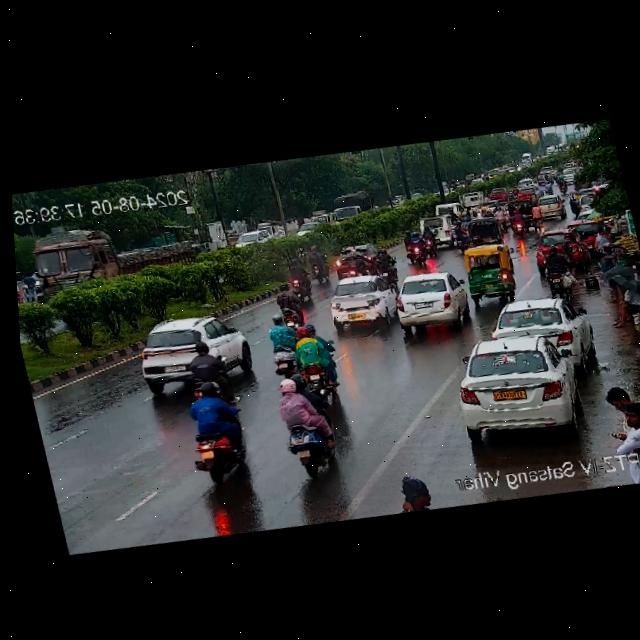car: (441, 319, 603, 450), (118, 304, 255, 401), (482, 288, 596, 372), (379, 263, 475, 338), (320, 269, 402, 333), (454, 239, 521, 305), (527, 225, 584, 279), (467, 212, 509, 249), (429, 212, 458, 247), (536, 192, 569, 221), (529, 200, 546, 230), (511, 185, 538, 203), (518, 199, 534, 229), (483, 184, 509, 201), (514, 175, 540, 191), (533, 168, 553, 185), (562, 166, 579, 186)
motorcycle: (272, 364, 342, 475), (178, 374, 253, 472), (284, 318, 345, 403), (176, 338, 238, 399), (260, 310, 305, 377), (266, 278, 307, 322), (331, 245, 374, 282), (395, 226, 434, 265), (302, 242, 331, 283), (458, 200, 506, 222), (451, 218, 470, 250), (430, 196, 460, 213), (509, 208, 527, 236), (494, 204, 510, 232), (465, 206, 484, 220), (557, 177, 568, 194), (542, 179, 553, 194), (481, 206, 493, 215), (17, 282, 21, 303)
person: (589, 244, 640, 308), (598, 261, 640, 330), (535, 243, 580, 302), (391, 469, 438, 515), (604, 403, 640, 462), (603, 382, 640, 421), (580, 224, 615, 260)
truck: (22, 210, 208, 307), (332, 190, 373, 221), (454, 186, 487, 209)
